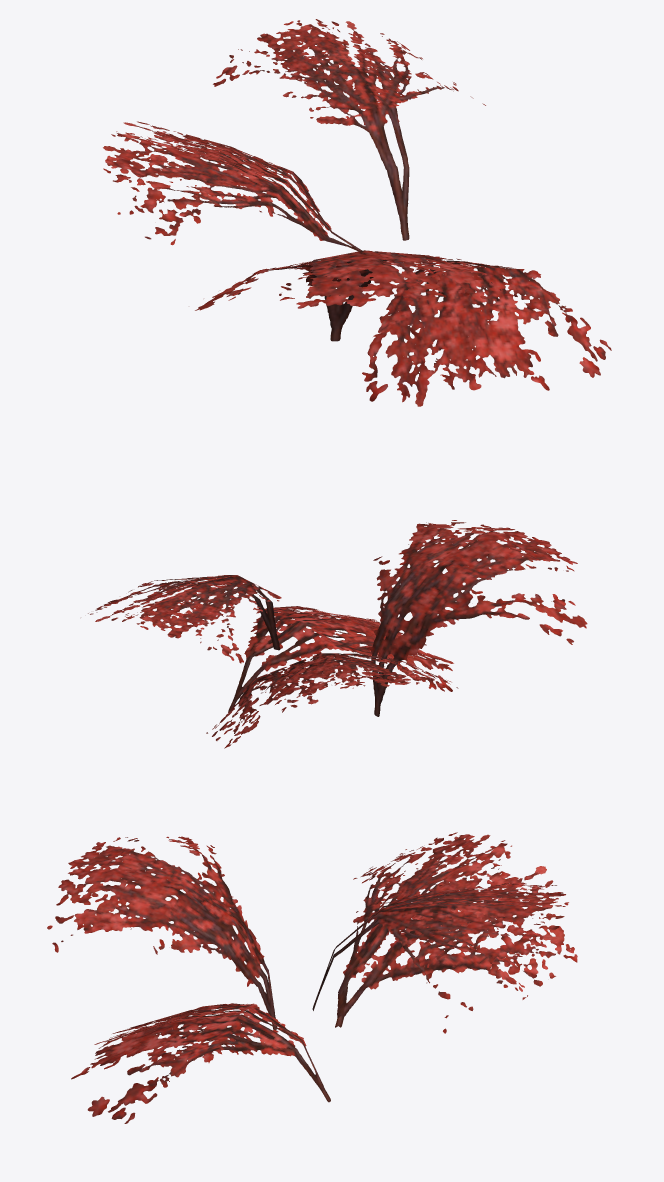
The model's file is SM_EN_Bush_3.fbx.
The picture shows the model from 3 angles, top to bottom: view 1: azimuth 30°, elevation 25°; view 2: azimuth 150°, elevation 25°; view 3: azimuth 270°, elevation 25°; orthographic projection. The views are drawn at different scales.
Parts seen in each view (by area): view 1: SM_EN_Bush_3; view 2: SM_EN_Bush_3; view 3: SM_EN_Bush_3.
Boxes of the visible parts, x1=… form: SM_EN_Bush_3: x1=103, y1=19, x2=611, y2=406; SM_EN_Bush_3: x1=88, y1=520, x2=587, y2=748; SM_EN_Bush_3: x1=47, y1=832, x2=577, y2=1123.
Size of the model in its own units: 319 by 271 by 133.
